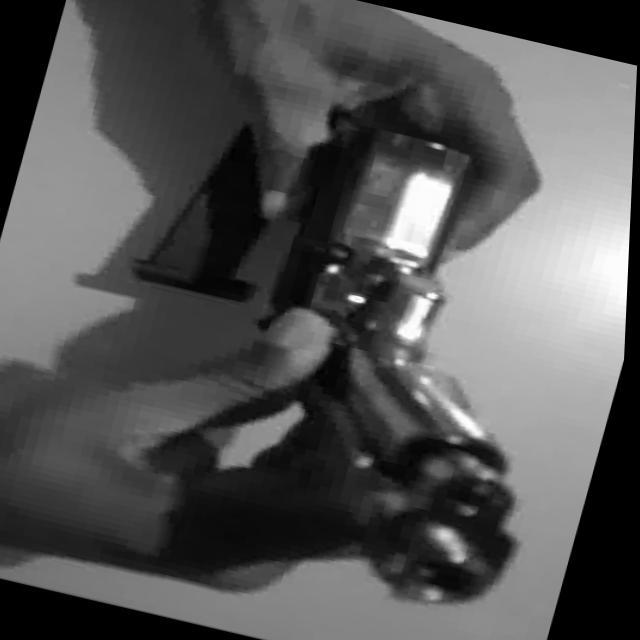weapon: (62, 51, 627, 620)
